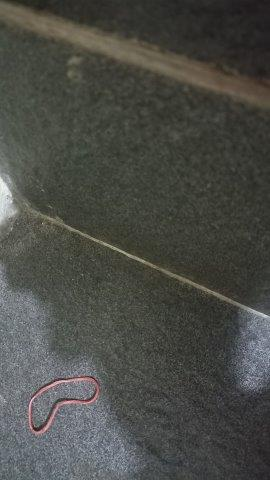karet: (27, 378, 100, 436)
